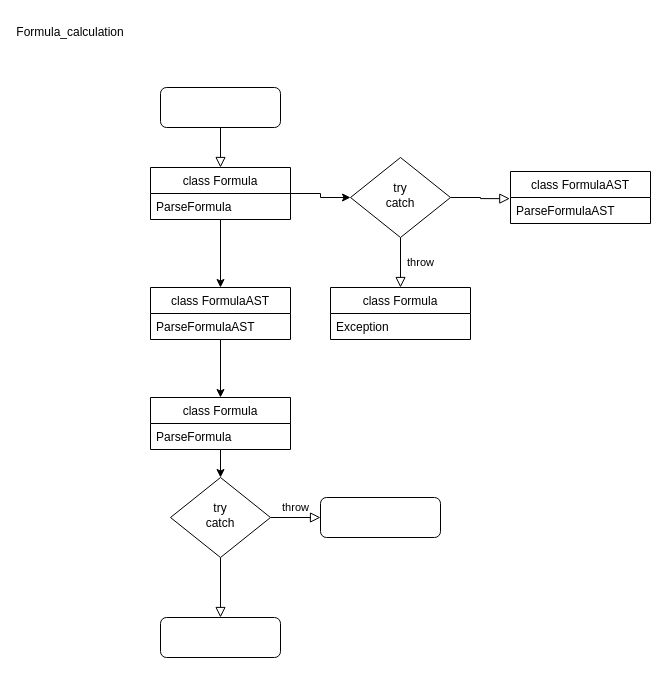
Image size: 668x675. Some labels were removed from this diagram. Each missing label, with the box of its shape:
expression: (160, 86, 280, 128)
FormulaError: (320, 496, 440, 538)
return Value: (160, 616, 280, 658)
